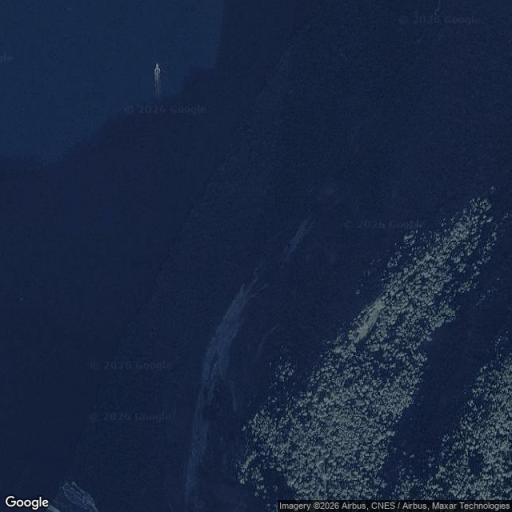ship: (152, 56, 165, 92)
